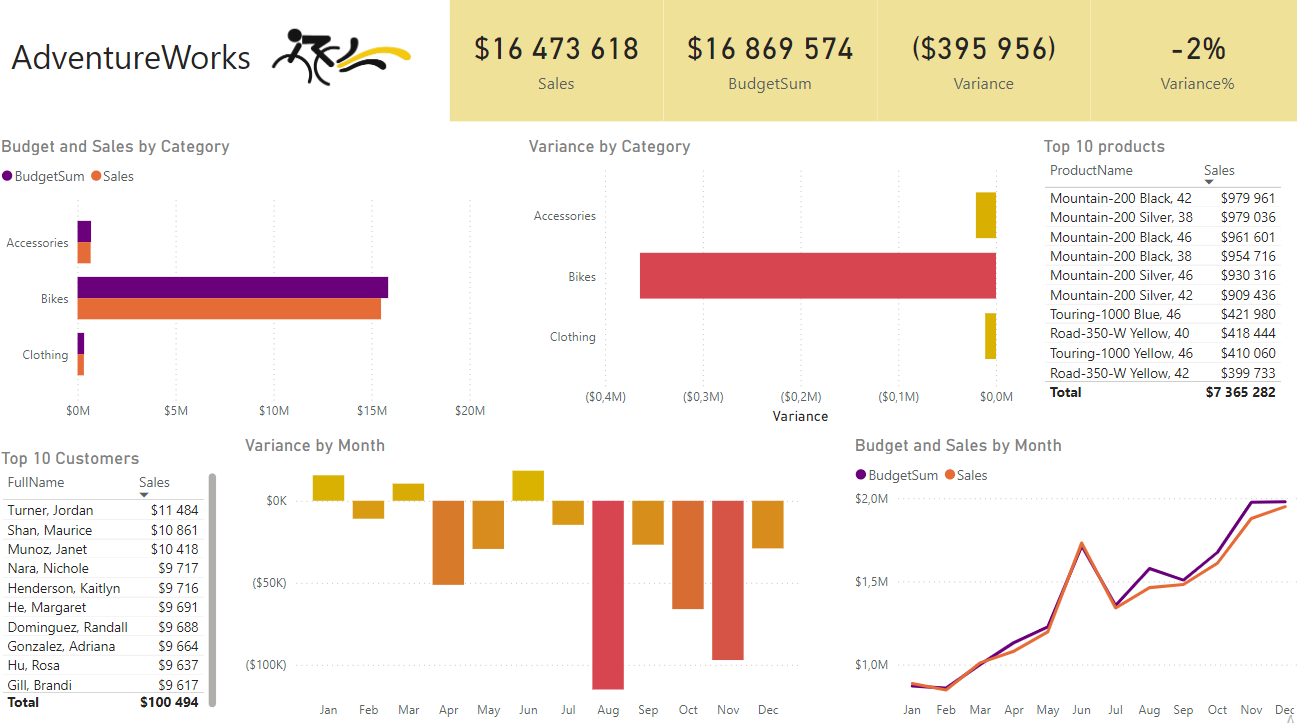

What the dashboard file says about the page in this screenshot:
{"tool":"powerbi","page":{"name":"Page 1","canvas":[1280,720],"ordinal":0},"visuals":[{"type":"textbox","box":[9.8,35.5,260.5,56.3],"z":0},{"type":"image","box":[257.8,28.9,154.4,68.9],"z":1000},{"type":"card","title":"f","fields":{"Values":["Sales.SalesSum"]},"box":[444.4,0,208.9,125.6],"z":2000},{"type":"card","title":"f","fields":{"Values":["Budget.BudgetSum"]},"box":[653.3,0,208.9,125.6],"z":3000},{"type":"card","fields":{"Values":["Budget.Variance"]},"box":[862.2,0,208.9,125.6],"z":4000},{"type":"card","fields":{"Values":["Budget.Variance%"]},"box":[1071.1,0,208.9,125.6],"z":5000},{"type":"clusteredBarChart","title":"Budget and Sales by Category","fields":{"Category":["Product.Category"],"Y":["Budget.BudgetSum","Sales.Sales"]},"box":[0,138.9,484.4,287.8],"z":6000},{"type":"barChart","fields":{"Y":["Budget.Variance"],"Category":["Product.Category","Product.SubCategory"]},"box":[515.6,138.9,484.4,287.8],"z":7000},{"type":"tableEx","title":"Top 10 products","fields":{"Values":["Product.ProductName","Sales.Sales"]},"box":[1020,138.9,260,287.8],"z":8000},{"type":"tableEx","title":"Top 10 Customers","fields":{"Values":["Customer.FullName","Sales.Sales"]},"box":[0,445.6,221.1,262.2],"z":9000},{"type":"lineChart","title":"Budget and Sales by Month","fields":{"Category":["Calendar.Month"],"Y":["Budget.BudgetSum","Sales.Sales"]},"box":[835.6,432.2,444.4,287.8],"z":10000},{"type":"columnChart","fields":{"Y":["Budget.Variance"],"Category":["Calendar.Month"]},"box":[238.9,432.2,553.3,287.8],"z":11000}]}

Visuals, with their boxes in screenshot pixels (x1, y1, x2, y2), scaled from the page's 1280x720 canvas onto the 1297x723 screenshot:
textbox: [left=10, top=36, right=274, bottom=92]
image: [left=261, top=29, right=418, bottom=98]
"f" card: [left=450, top=0, right=662, bottom=126]
"f" card: [left=662, top=0, right=874, bottom=126]
card - Budget.Variance: [left=874, top=0, right=1085, bottom=126]
card - Budget.Variance%: [left=1085, top=0, right=1296, bottom=126]
"Budget and Sales by Category" clusteredBarChart: [left=0, top=139, right=491, bottom=428]
barChart - Budget.Variance x Product.Category: [left=522, top=139, right=1013, bottom=428]
"Top 10 products" tableEx: [left=1034, top=139, right=1296, bottom=428]
"Top 10 Customers" tableEx: [left=0, top=447, right=224, bottom=711]
"Budget and Sales by Month" lineChart: [left=847, top=434, right=1296, bottom=722]
columnChart - Budget.Variance x Calendar.Month: [left=242, top=434, right=803, bottom=722]
